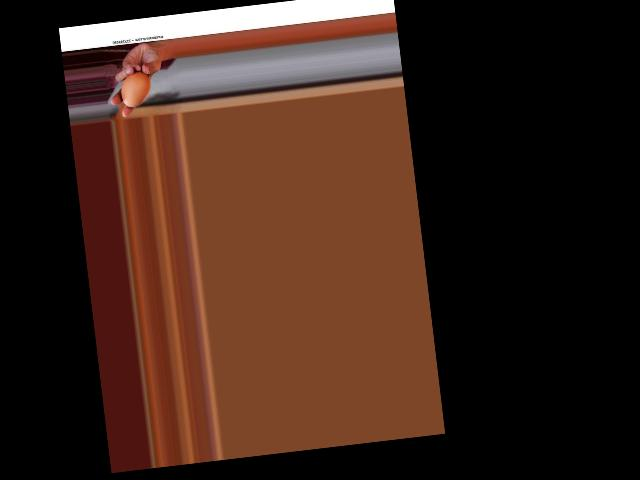egg: (118, 70, 152, 108)
